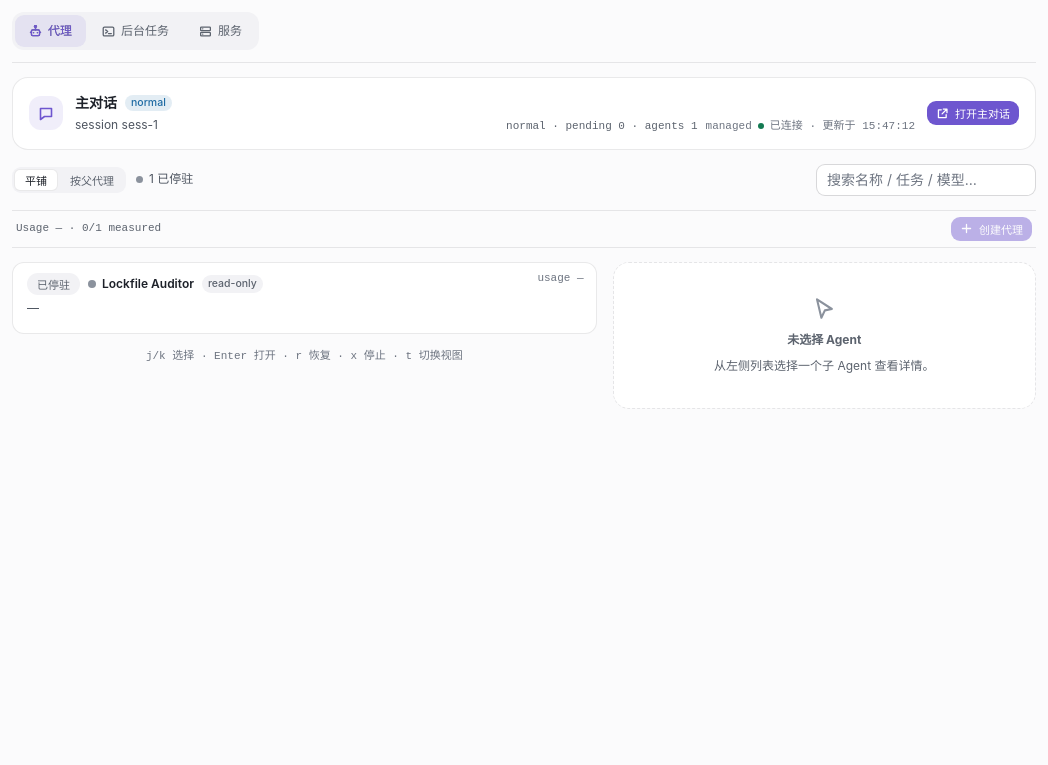
AgentHubPage real-mode projection › disables kill, revive, and send for a non-advisor read-only agent
This screenshot has width=1048, height=765.
What coordinates should you click on to do the following:
click the option "已停驻 Lockfile Auditor read-only — usage —"
I would click on:
 (54, 284)
Its box is [12,262,597,334].
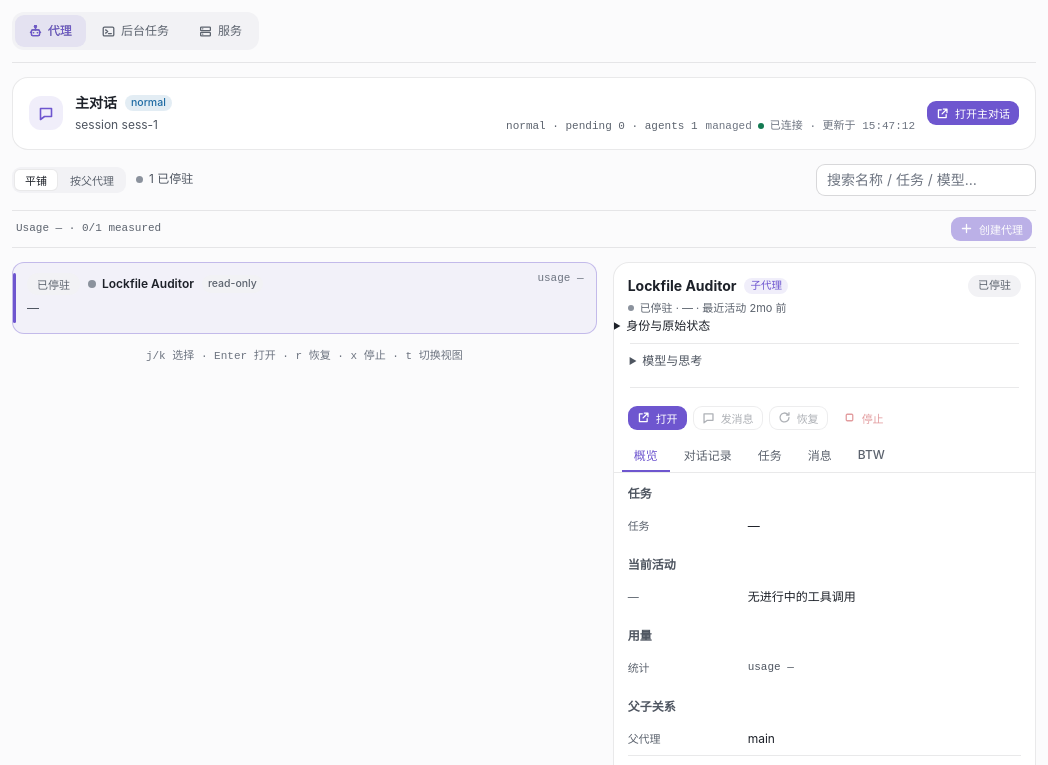
Expected: the button "恢复" is disabled, [769,406,828,430]
Expected: the button "停止" is disabled, [834,406,893,430]
Expected: the button "发消息" is disabled, [693,406,763,430]
